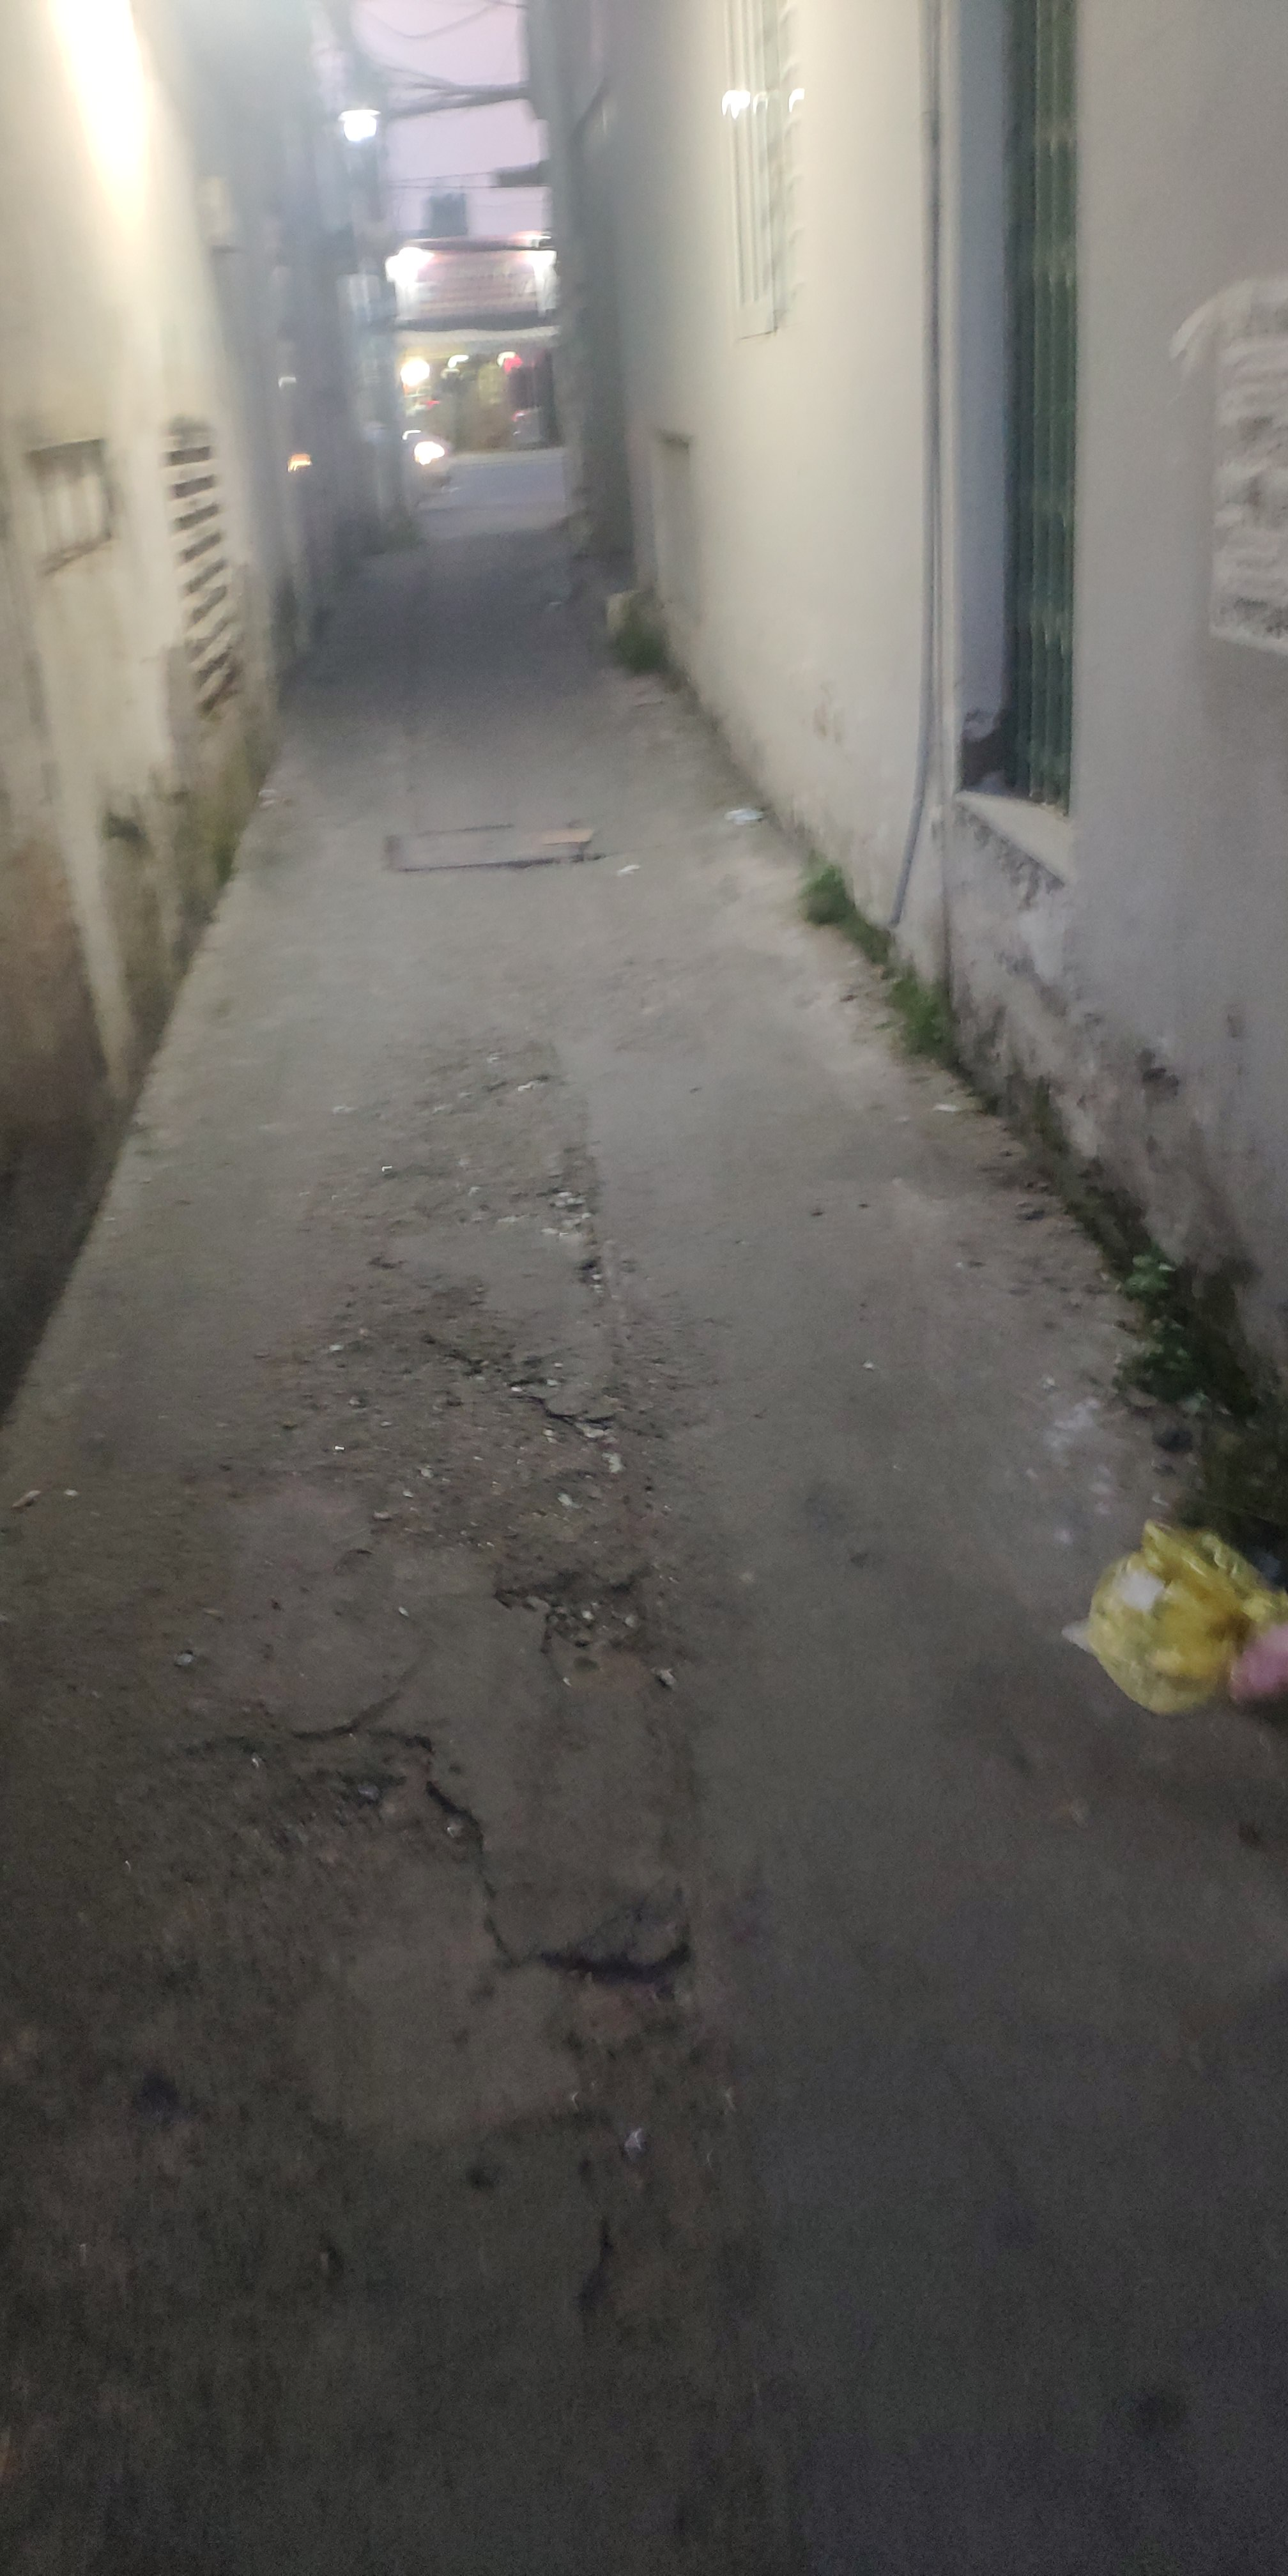hole: (457, 1912, 728, 2566), (338, 1344, 682, 1689), (237, 1740, 480, 1863), (495, 1554, 674, 1692), (522, 1176, 618, 1242), (568, 1252, 621, 1304)
